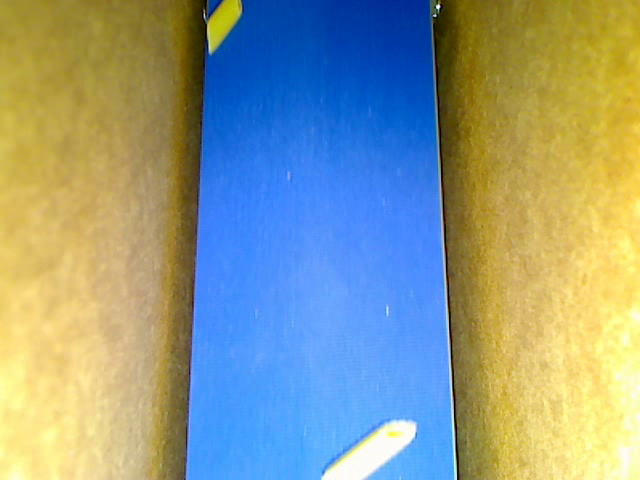penne: (320, 419, 417, 479), (206, 1, 243, 55)
